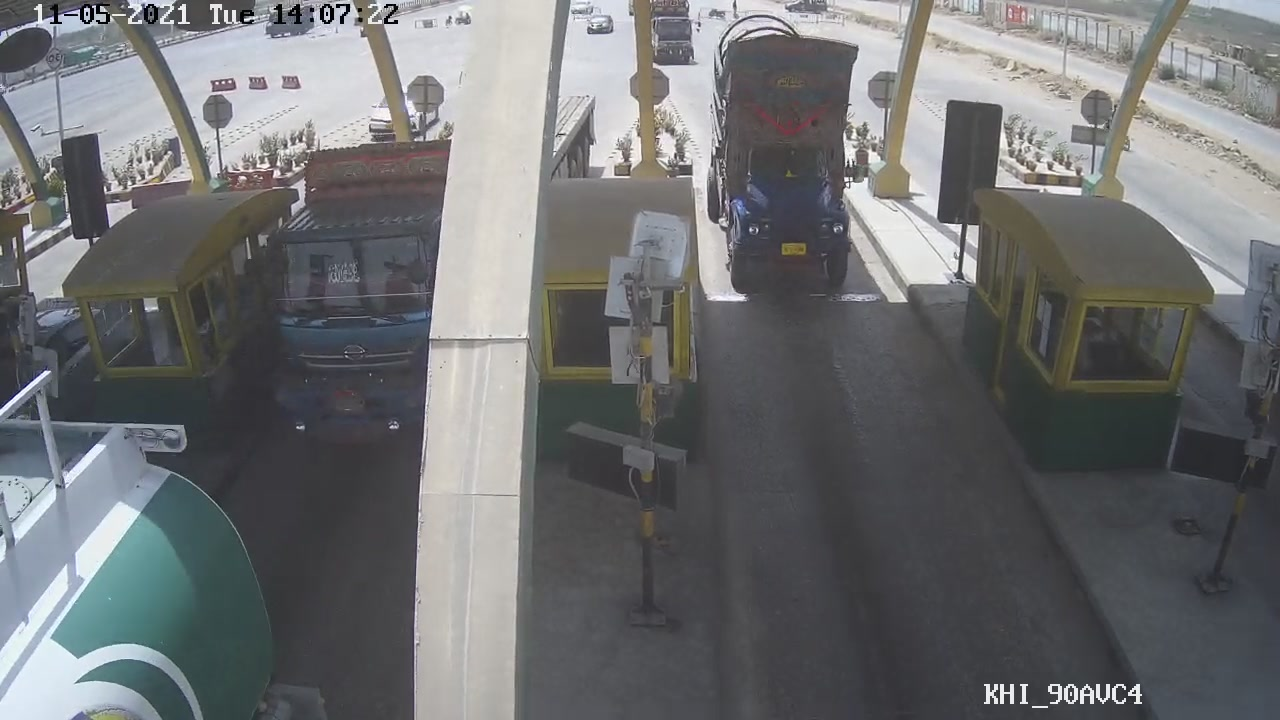F5: (704, 30, 873, 300)
